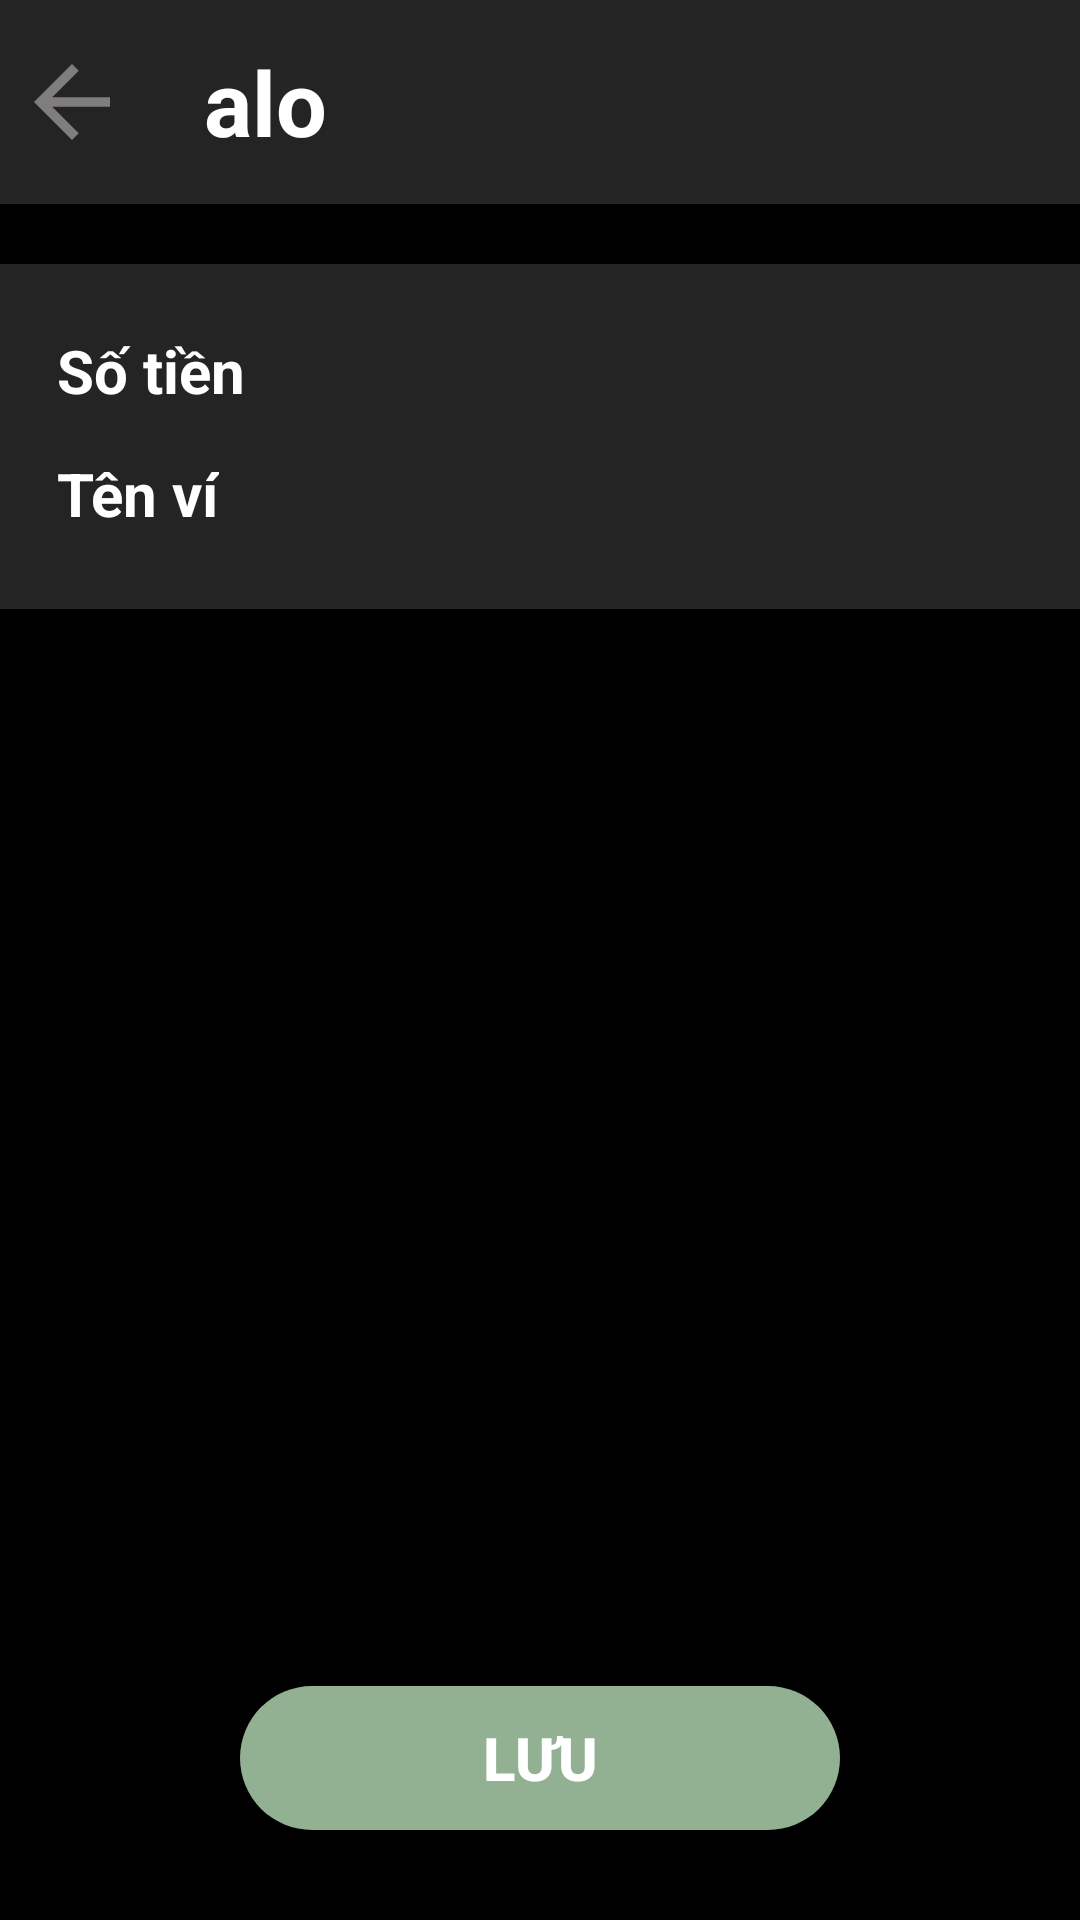

Where to tap for icons on this 1080w x 1920h app screen, as (x=x, y=y):
arrow back: (x=72, y=102)
